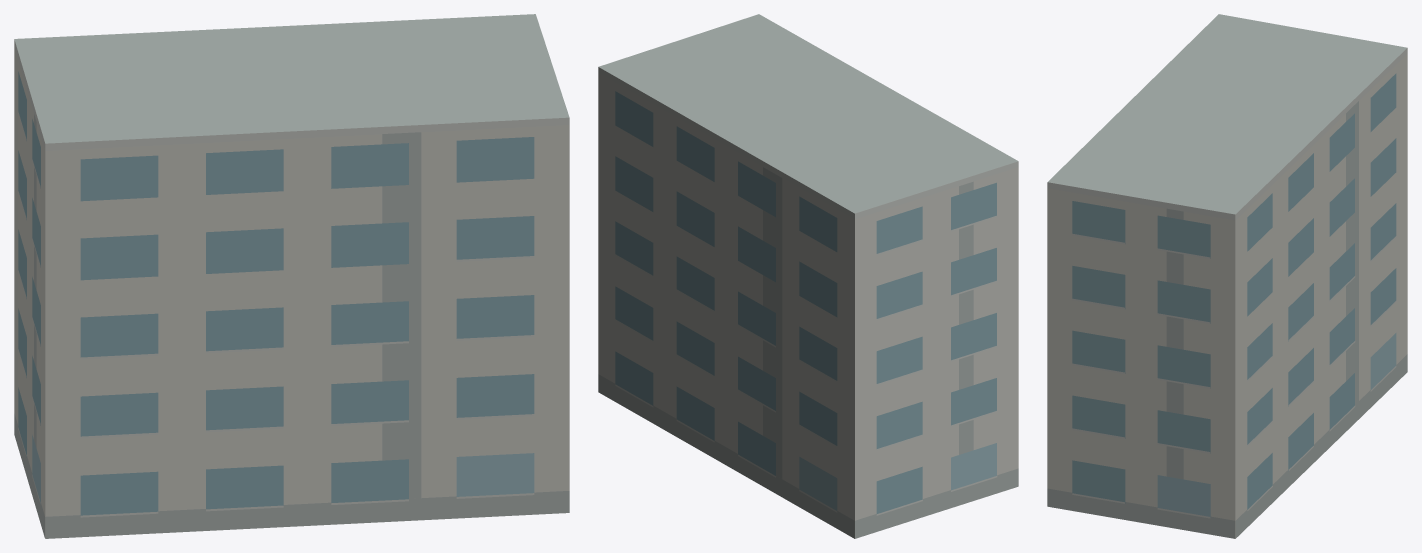
The model's file is survey-upis-32950337.glb.
3 renders of one model, left to right at view 1: azimuth 30°, elevation 25°; view 2: azimuth 150°, elevation 25°; view 3: azimuth 270°, elevation 25°, orthographic. The views are drawn at different scales.
Parts seen in each view (by area): view 1: survey-upis-32950337.tmp; view 2: survey-upis-32950337.tmp; view 3: survey-upis-32950337.tmp.
Boxes of the visible parts, x1,y1,x2,y2 form: survey-upis-32950337.tmp: (14,14,569,538); survey-upis-32950337.tmp: (598,14,1018,538); survey-upis-32950337.tmp: (1047,14,1407,538).
Bounding box in the file's own units: 17.71 × 13.35 × 13.44.
